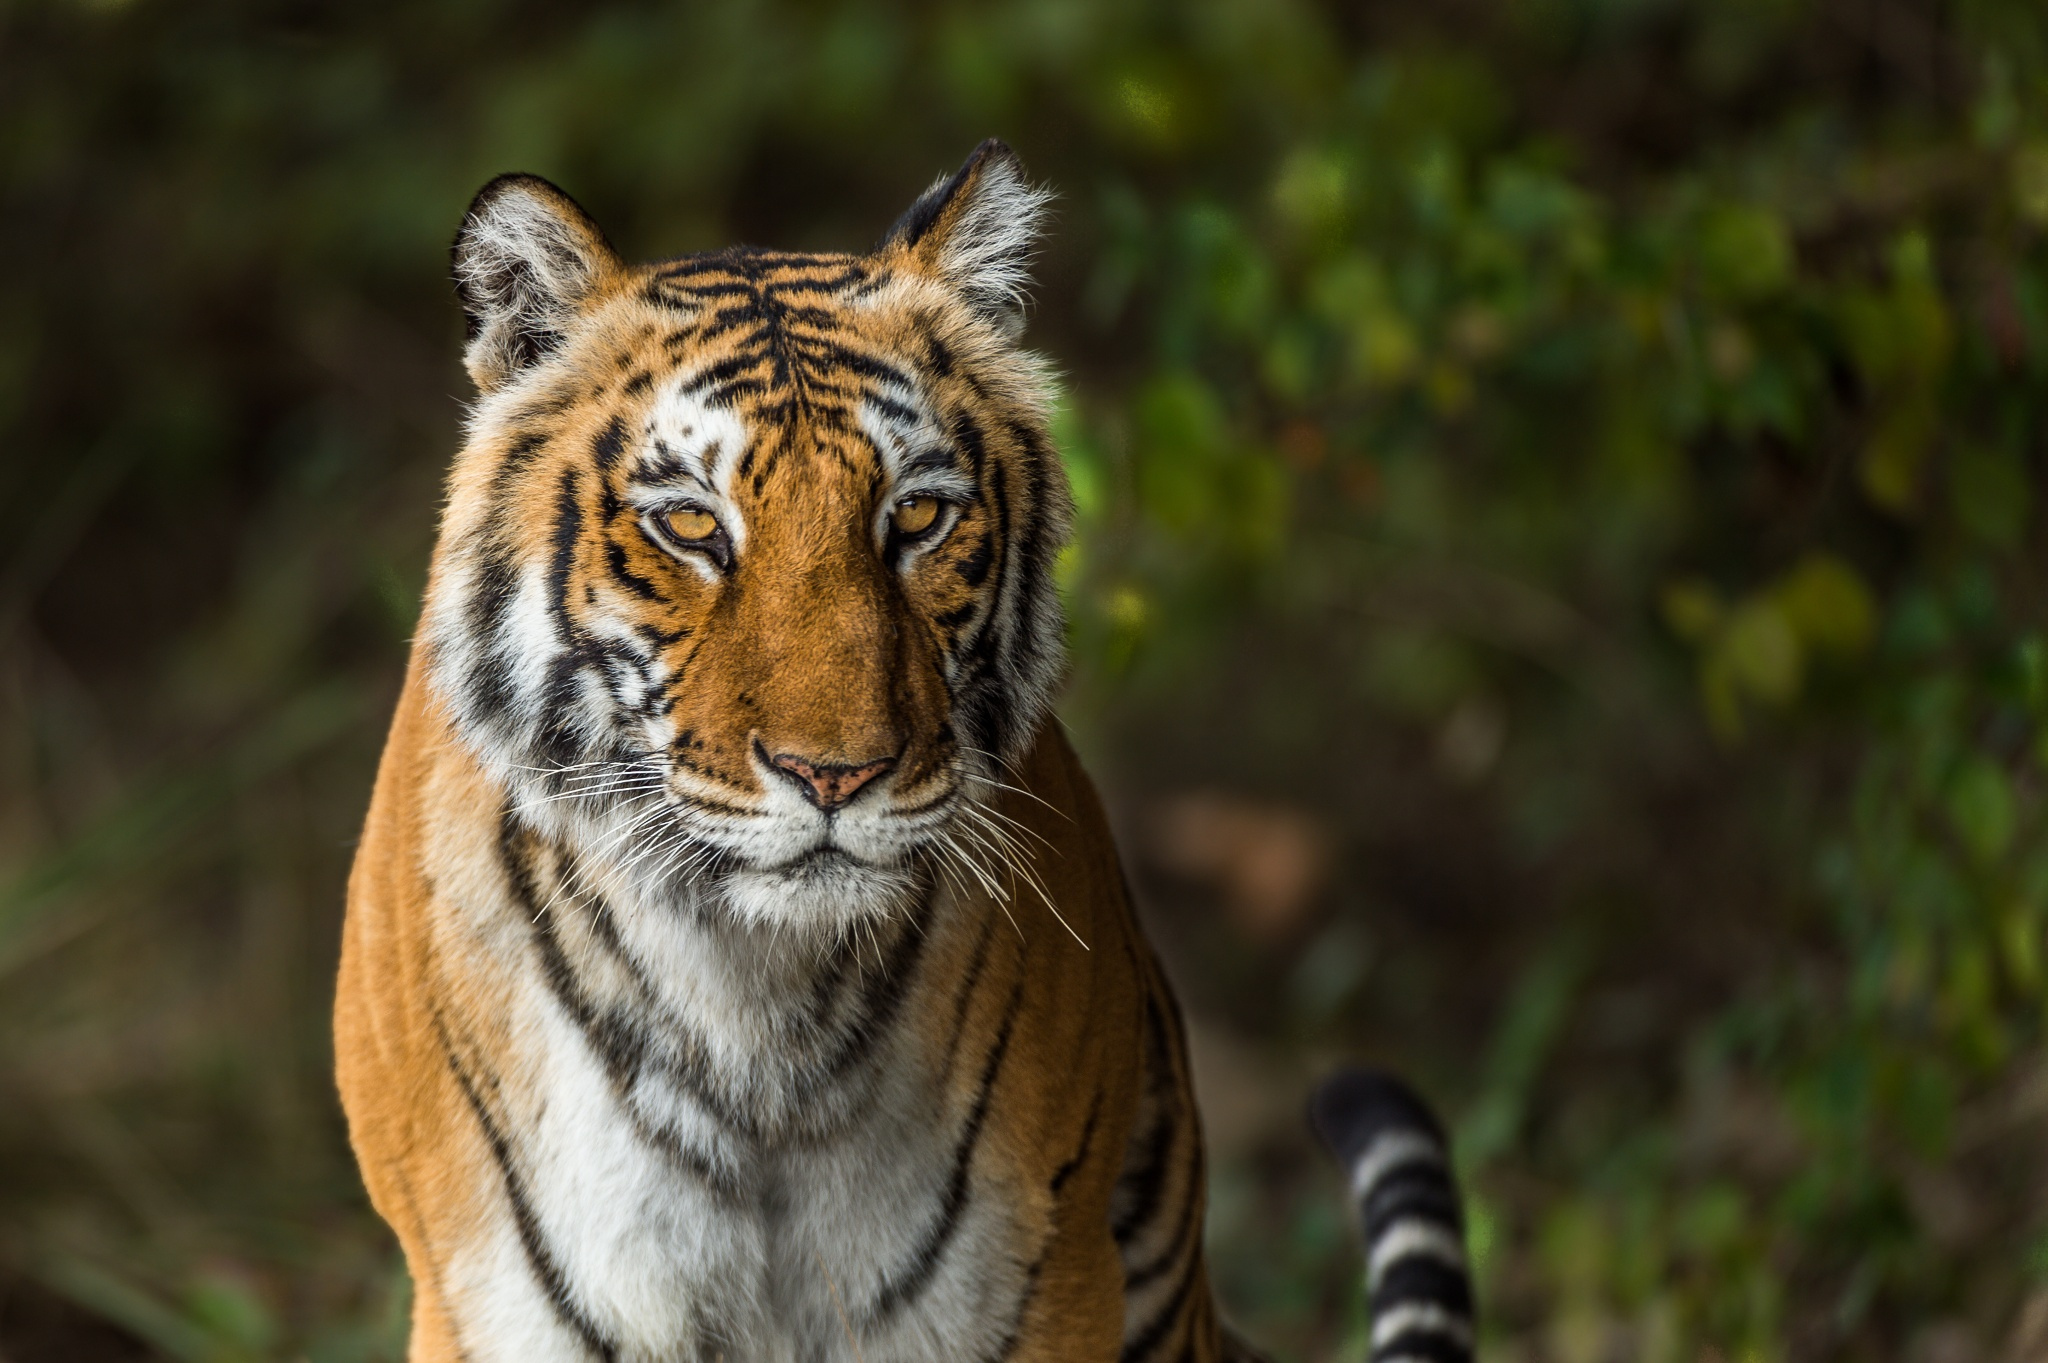tiger: (363, 164, 1473, 1323)
